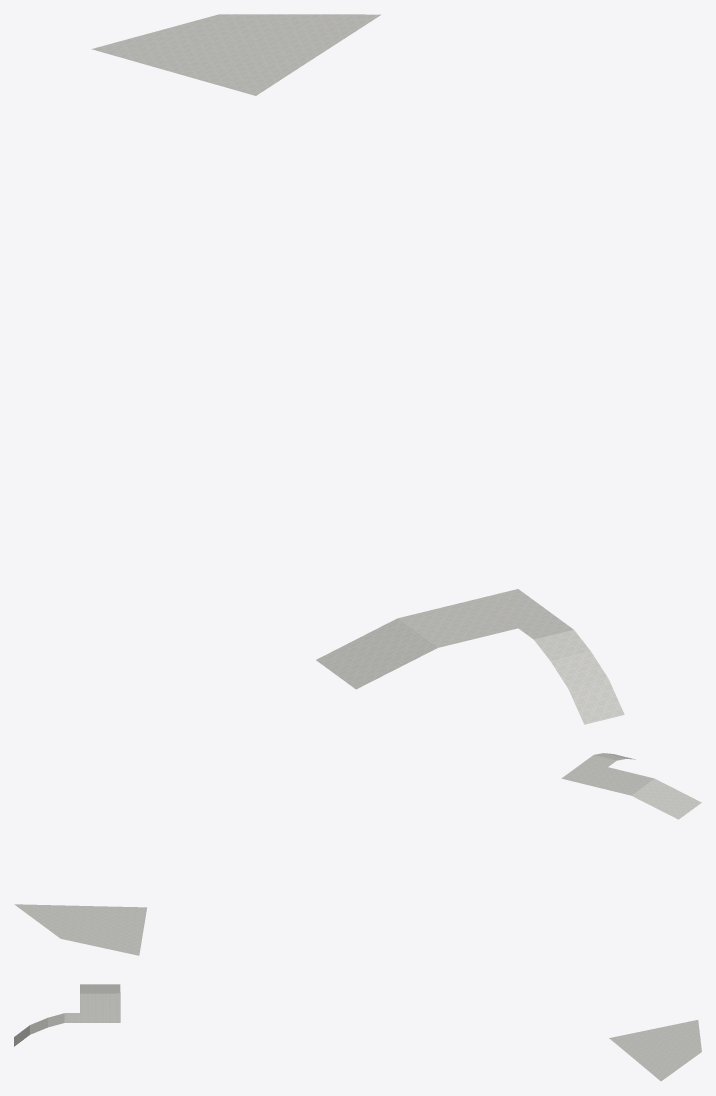
Rendered from kd_stage_1363c5_9_25.glb.
The picture shows the model from 3 angles, top to bottom: view 1: azimuth 30°, elevation 25°; view 2: azimuth 150°, elevation 25°; view 3: azimuth 270°, elevation 25°; orthographic projection. The views are drawn at different scales.
Parts seen in each view (by area): view 1: kd_stage_1363c5_9_25; view 2: kd_stage_1363c5_9_25; view 3: kd_stage_1363c5_9_25.
Part boxes in pixels (box(x1,y1,x2,y2)): kd_stage_1363c5_9_25: box(91, 14, 624, 724); kd_stage_1363c5_9_25: box(14, 753, 701, 955); kd_stage_1363c5_9_25: box(14, 984, 701, 1081).
Size of the model in its own units: 53.56 by 10.8 by 105.
1 material, 1 textured.
